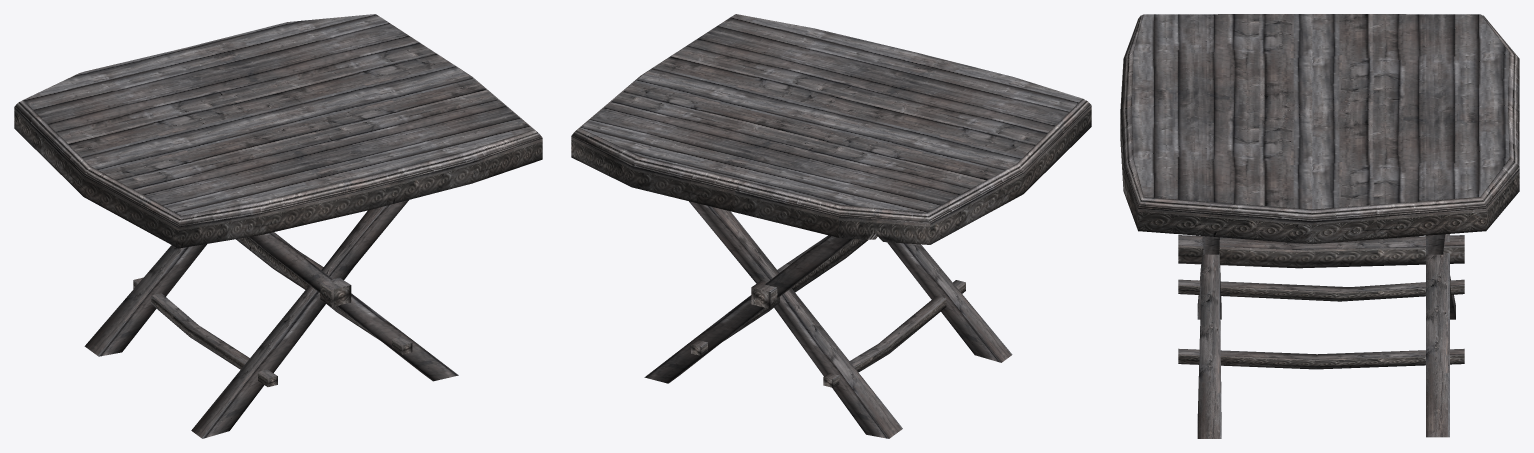
File: tavern_table2.fbx
The picture shows the model from 3 angles, left to right: view 1: azimuth 30°, elevation 25°; view 2: azimuth 150°, elevation 25°; view 3: azimuth 270°, elevation 25°; orthographic projection. The views are drawn at different scales.
Parts seen in each view (by area): view 1: Default_Layer; view 2: Default_Layer; view 3: Default_Layer.
Boxes of the visible parts, left/top/right/bottom form: Default_Layer: left=14, top=14, right=542, bottom=438; Default_Layer: left=571, top=14, right=1091, bottom=438; Default_Layer: left=1120, top=14, right=1519, bottom=438.
Bounding box in the file's own units: 608 × 376 × 507.
1 material, 1 textured.
